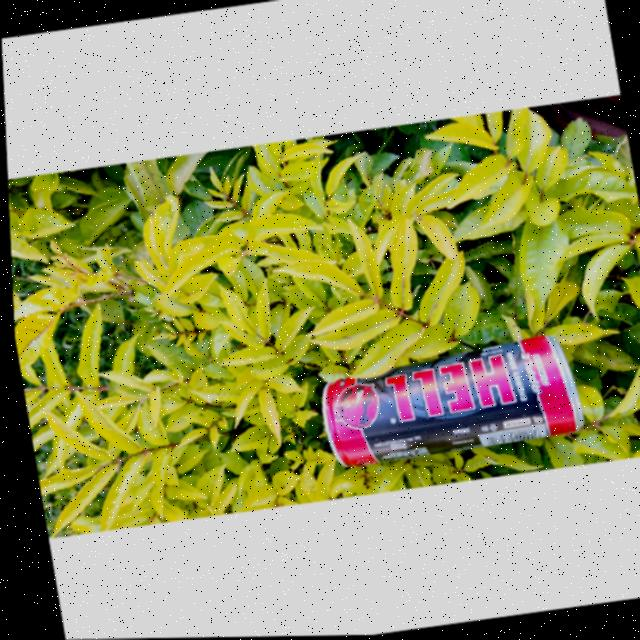Hell Apple: (305, 325, 582, 486)
